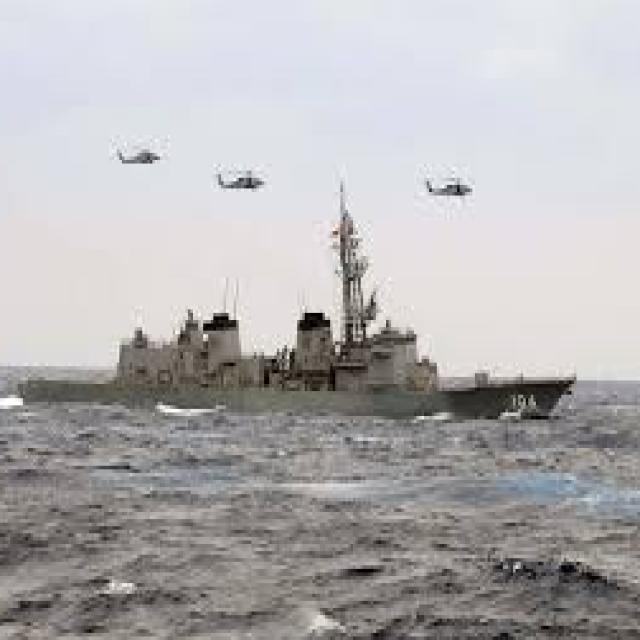navalvessels: (24, 202, 590, 423)
